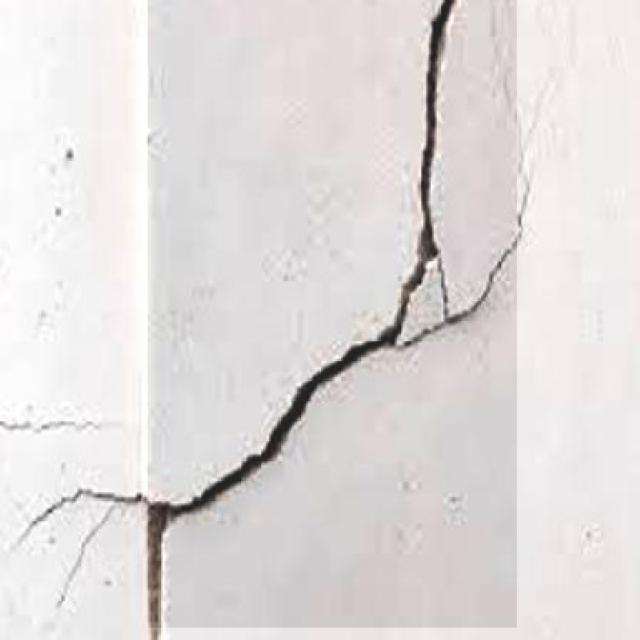Crack: (149, 7, 519, 640), (495, 0, 594, 271), (45, 507, 117, 603), (0, 403, 122, 457)
